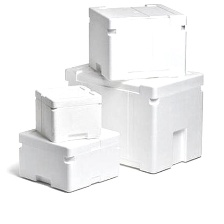foam_box: (61, 58, 208, 177), (84, 0, 191, 85), (14, 119, 124, 194), (31, 82, 106, 145)
